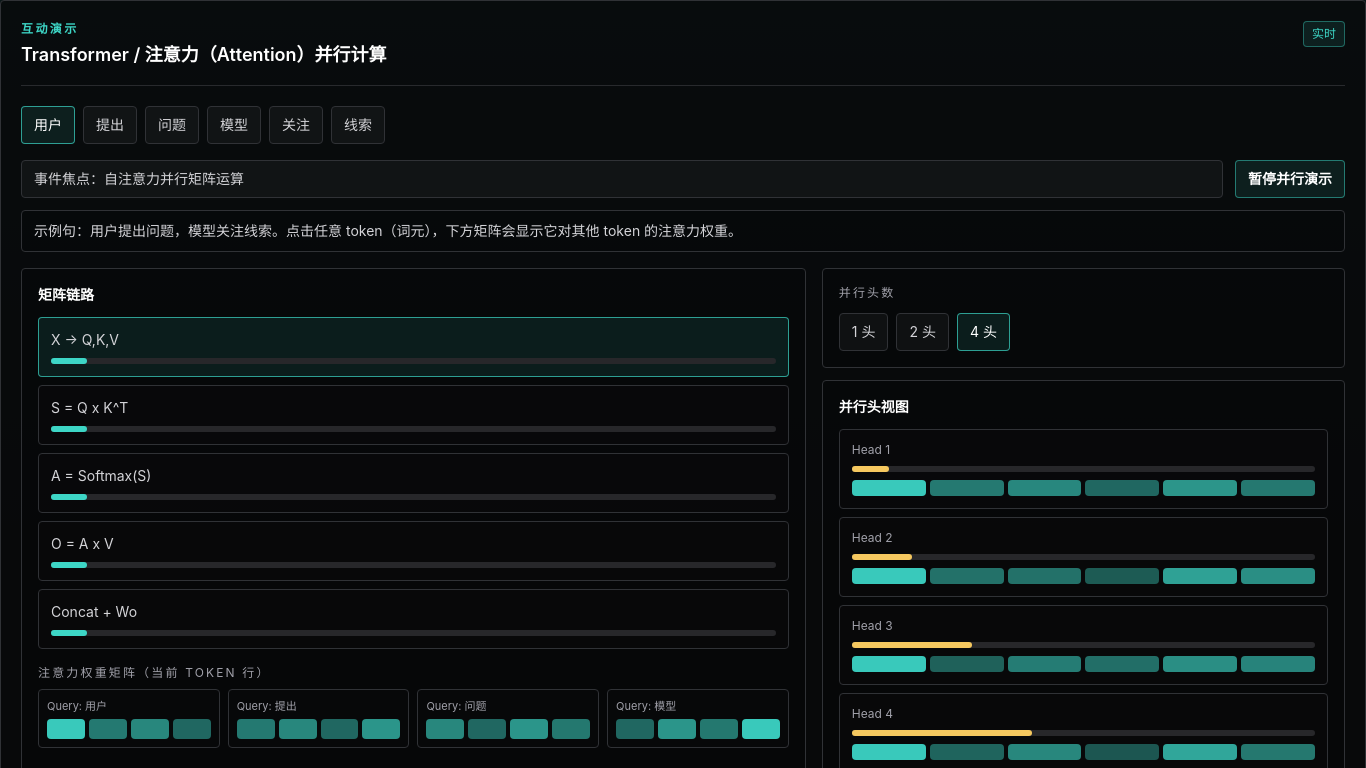
Scenario: AttentionDemo › switches head count and updates head view blocks
What coordinates should you click on to do the following:
click the button "2 头"
I would click on:
 (923, 332)
Its box is [896, 313, 949, 351].
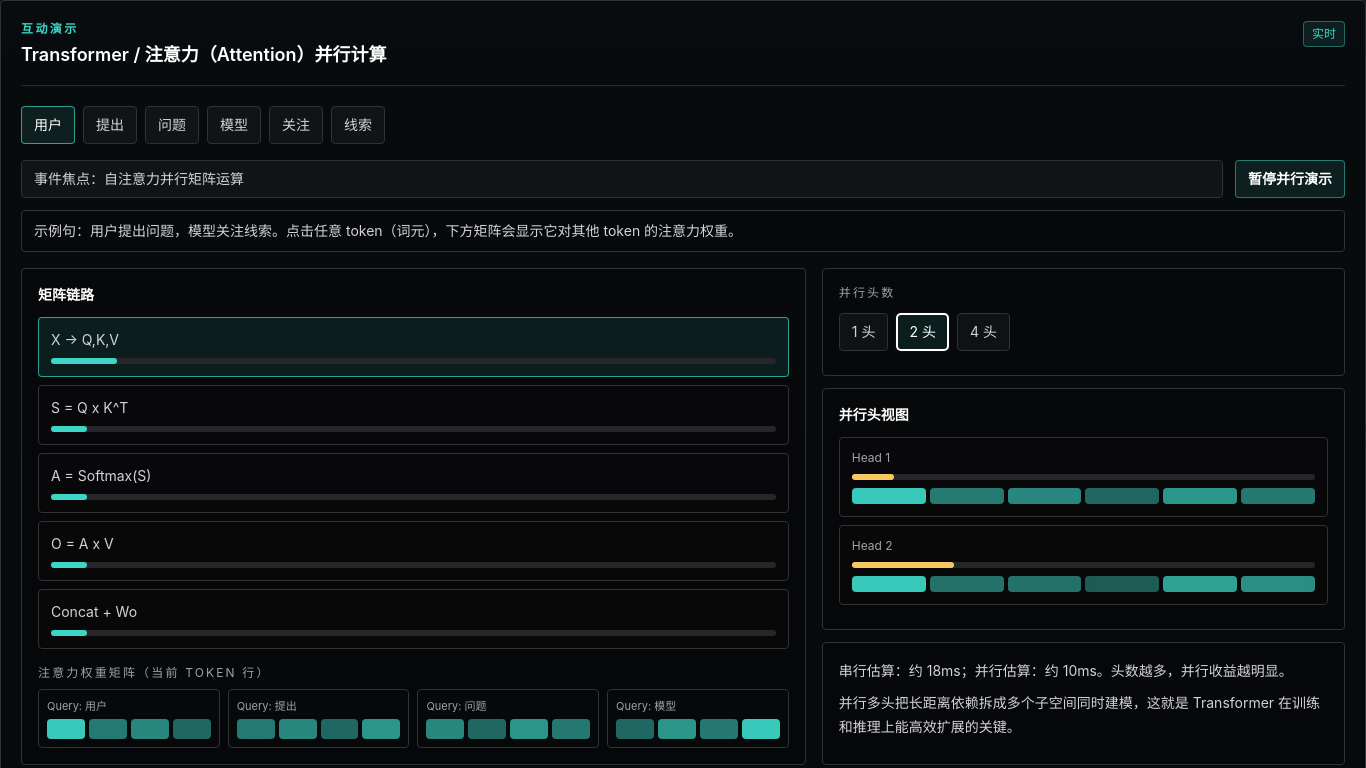
Expected: the text "Head 1" is shown 2 times, [852, 450, 890, 465]; [852, 538, 893, 553]
What coordinates should you click on to do the following:
click the button "4 头"
I would click on:
 (983, 332)
Its box is [957, 313, 1010, 351].
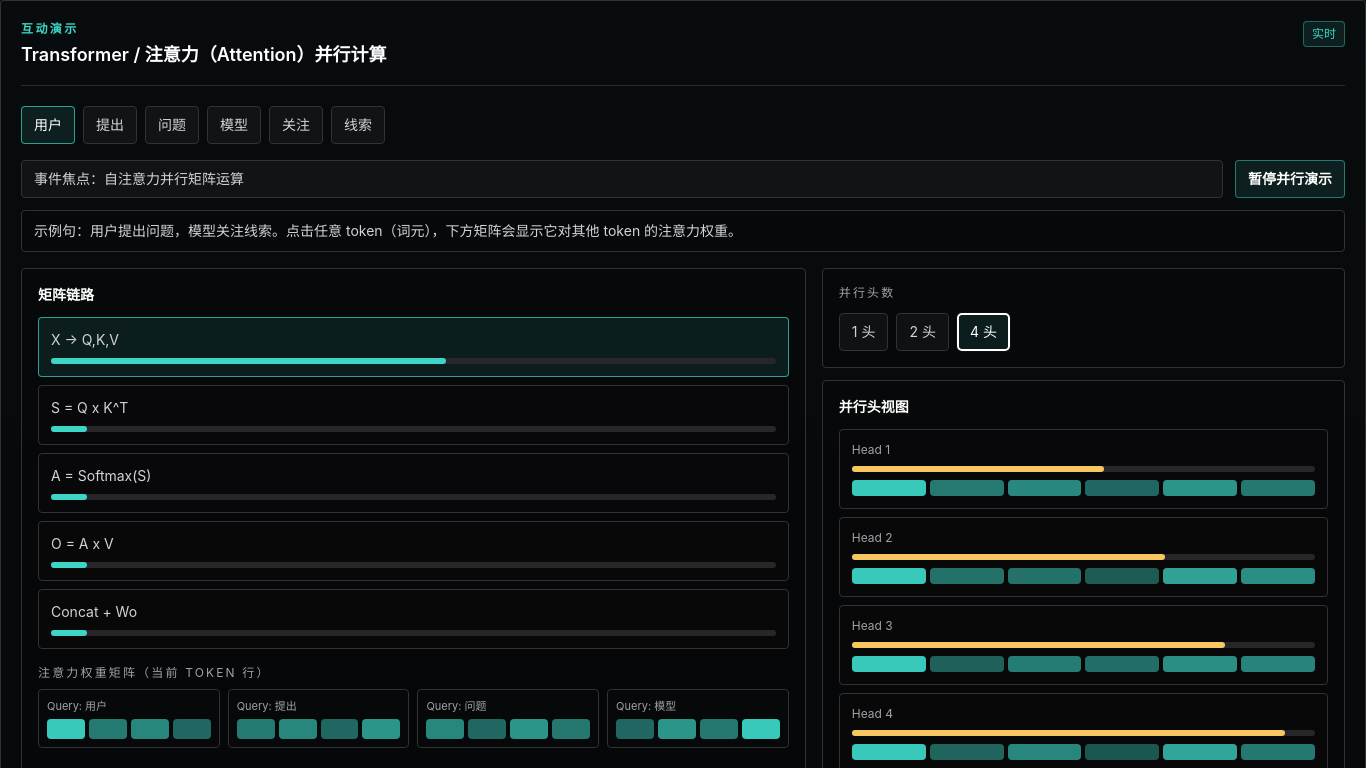
Expected: the text "Head 1" is shown 4 times, [852, 442, 890, 457]; [852, 530, 893, 545]; [852, 618, 893, 633]; [852, 706, 893, 721]
